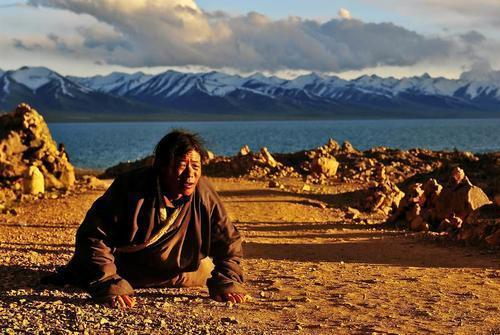Fall-Detected: (46, 123, 250, 307)
